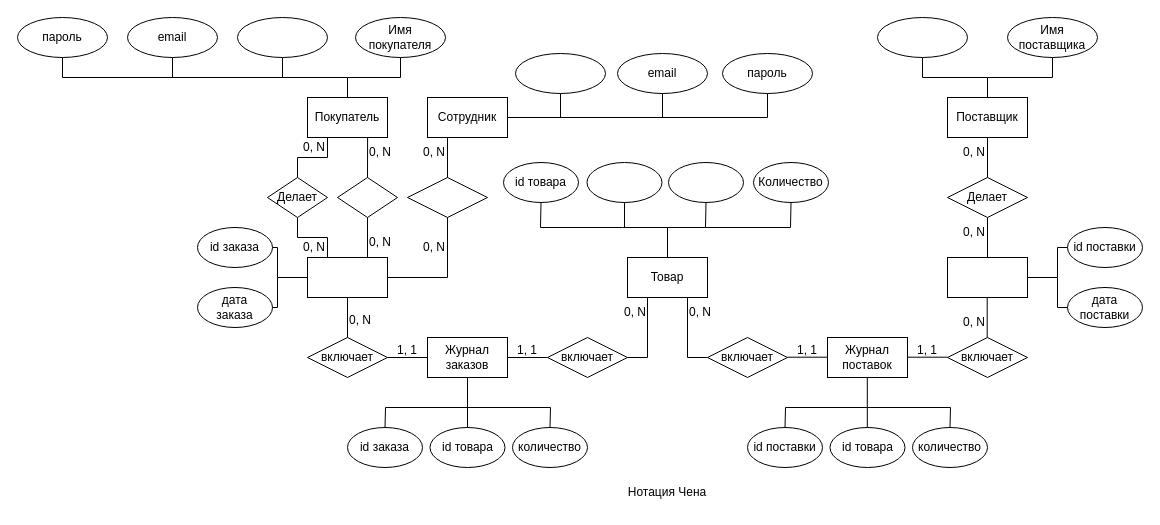
Some shapes in this 1160 by 525 pixel diagram are drawn without their labels. Here are the shapes that lost their labels. From the top down, the box of each, then its label:
(236, 16, 328, 58): id покупателя
(876, 16, 968, 58): id поставщика
(514, 52, 606, 94): id сотрудника
(336, 176, 398, 218): Отменяет
(406, 176, 488, 218): Выполняет
(586, 162, 662, 202): Имя модели
(668, 162, 744, 202): Цена
(306, 256, 388, 298): Список Заказ
(946, 256, 1028, 298): Поставка
